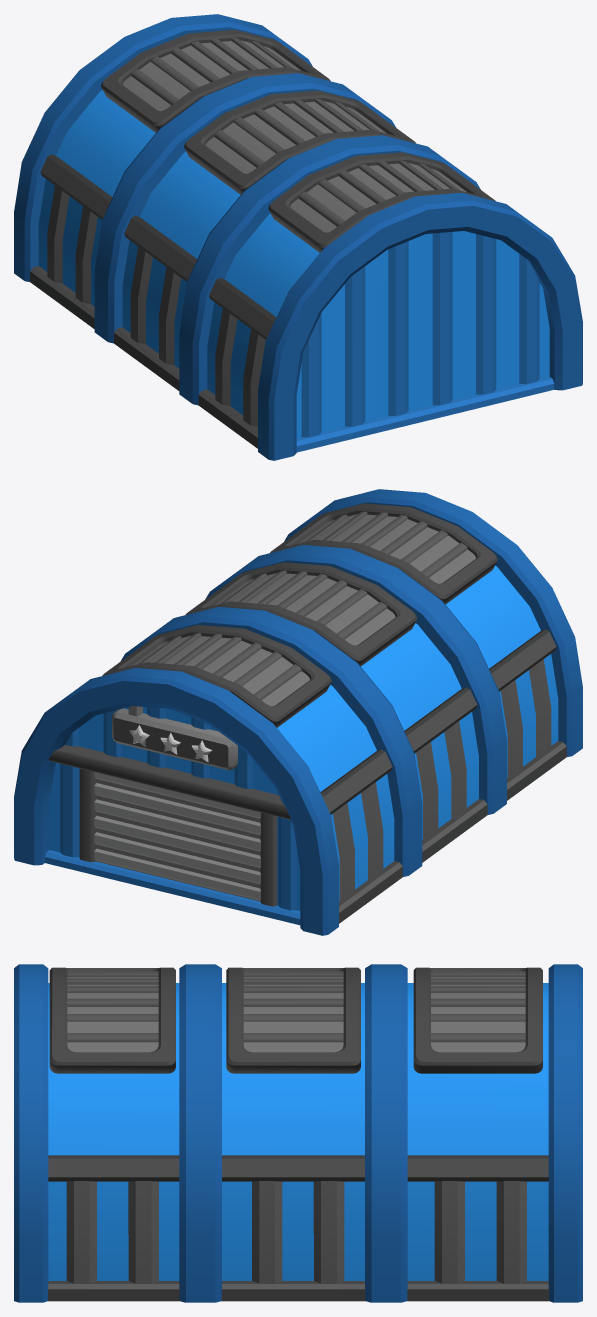
Rendered from Hangar_1_D.fbx.
The picture shows the model from 3 angles, top to bottom: view 1: azimuth 30°, elevation 25°; view 2: azimuth 150°, elevation 25°; view 3: azimuth 270°, elevation 25°; orthographic projection. The views are drawn at different scales.
Parts seen in each view (by area): view 1: Hangar_1_D; view 2: Hangar_1_D; view 3: Hangar_1_D.
Part boxes in pixels (bbox=[...]): Hangar_1_D: bbox=[14, 14, 582, 460]; Hangar_1_D: bbox=[14, 489, 582, 935]; Hangar_1_D: bbox=[14, 964, 582, 1302].
Size of the model in its own units: 1011 by 668 by 1447.
